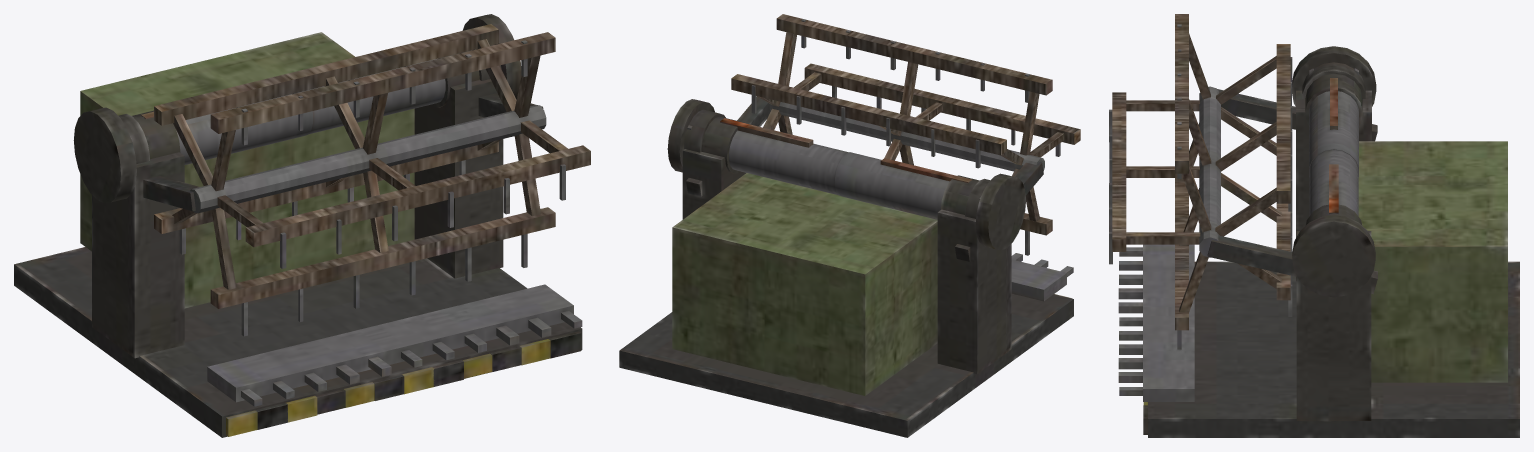
The model's file is feMechHarvester.glb.
3 renders of one model, left to right at view 1: azimuth 30°, elevation 25°; view 2: azimuth 150°, elevation 25°; view 3: azimuth 270°, elevation 25°, orthographic. The views are drawn at different scales.
Visible parts, largest first — view 1: feMechHarvester_Base, FeSpin_x0.5_Reel, FeSpin_DriveShaft; view 2: feMechHarvester_Base, FeSpin_x0.5_Reel, FeSpin_DriveShaft; view 3: feMechHarvester_Base, FeSpin_x0.5_Reel, FeSpin_DriveShaft.
Part boxes in pixels (box(x1,y1,x2,y2)): feMechHarvester_Base: box(14, 32, 582, 437); FeSpin_x0.5_Reel: box(154, 24, 590, 336); FeSpin_DriveShaft: box(73, 14, 521, 203); feMechHarvester_Base: box(619, 96, 1073, 437); FeSpin_x0.5_Reel: box(731, 14, 1080, 255); FeSpin_DriveShaft: box(667, 99, 1025, 250); feMechHarvester_Base: box(1118, 73, 1519, 437); FeSpin_x0.5_Reel: box(1109, 14, 1292, 349); FeSpin_DriveShaft: box(1292, 46, 1376, 297).
Size of the model in its own units: 1 by 0.7299 by 0.9956.
1 material, 1 textured.
